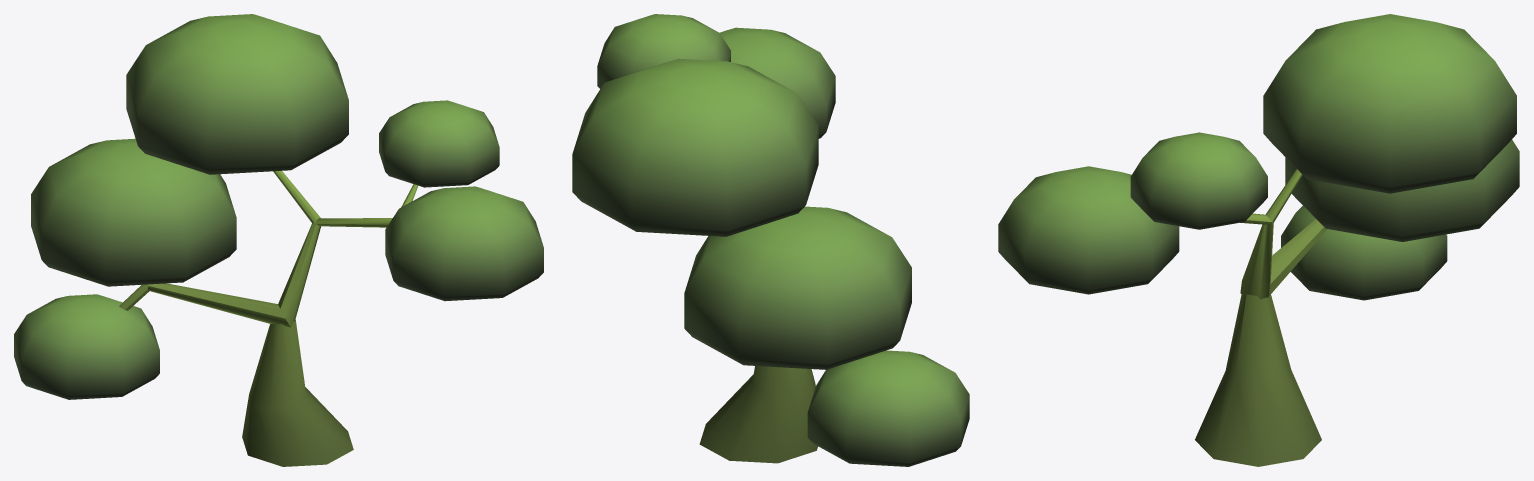
Rendered from Tree.fbx.
3 views of the same model, side by side, from view 1: azimuth 30°, elevation 25°; view 2: azimuth 150°, elevation 25°; view 3: azimuth 270°, elevation 25° (orthographic). The views are drawn at different scales.
Visible parts, largest first — view 1: Tree; view 2: Tree; view 3: Tree.
Boxes of the visible parts, x1,y1,x2,y2 form: Tree: (14, 14, 543, 466); Tree: (572, 14, 969, 466); Tree: (998, 14, 1519, 466).
Size of the model in its own units: 3.98 by 3.53 by 4.12.
